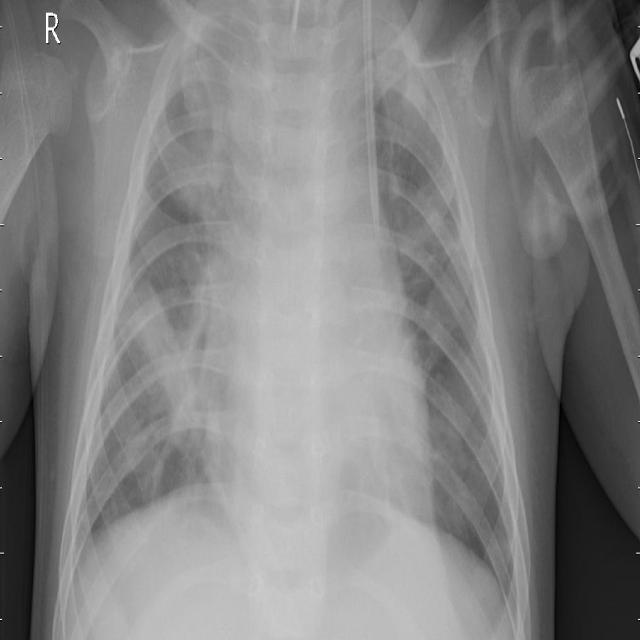low-pneumonia: (167, 19, 244, 221), (146, 273, 214, 447), (403, 178, 480, 319), (359, 35, 430, 143)
